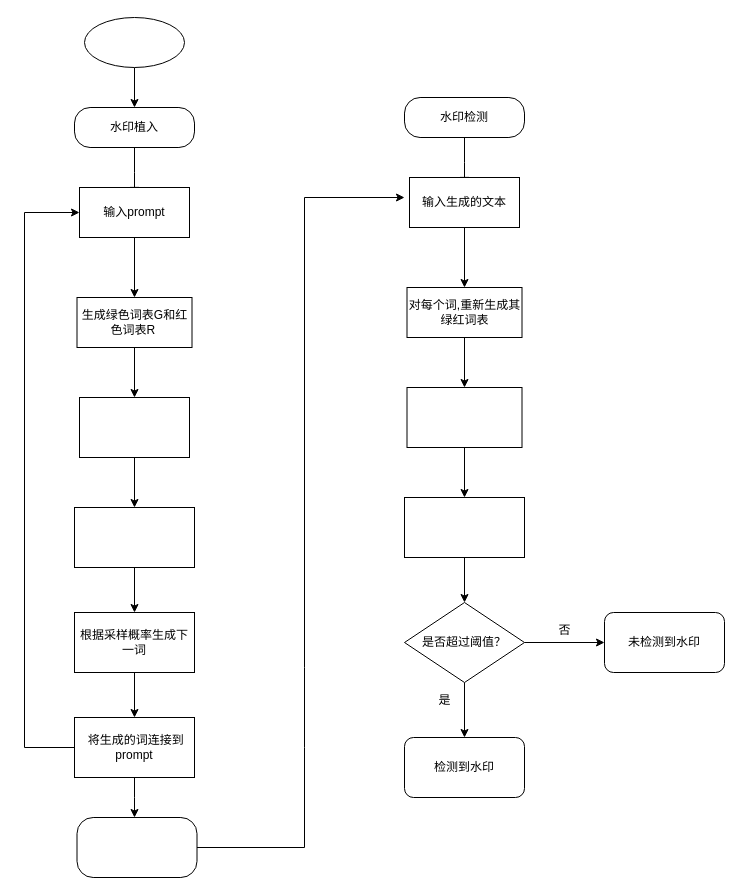
The diagram is 742 pixels wide and 895 high, and some of its shapes have lost their labels. The centre of each missing label's shape, as x and y in pixels:
在G中的词对应的词向量上加偏置δ: the point at 134,427
将修改后的词向量转换为采样概率: the point at 134,537
开始: the point at 134,42
生成完整文本: the point at 136,847
统计文本中绿色词的数量: the point at 464,417
计算检测统计量,与阈值比较: the point at 464,527
